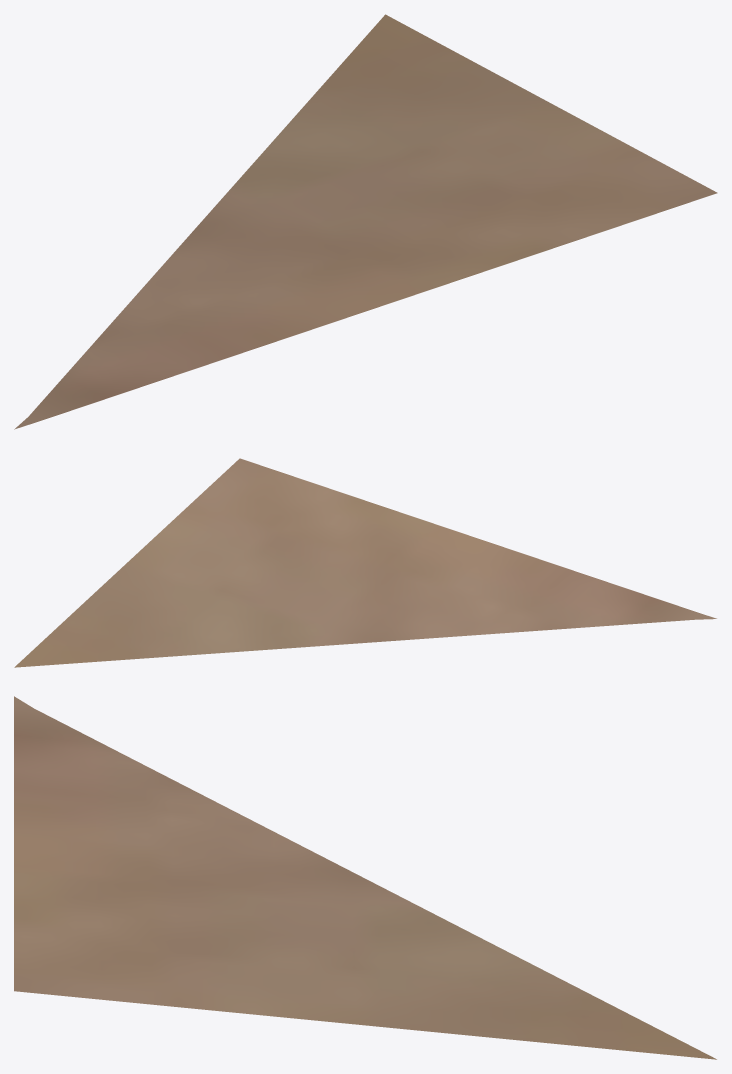
3 views of the same model, one above another, from view 1: azimuth 30°, elevation 25°; view 2: azimuth 150°, elevation 25°; view 3: azimuth 270°, elevation 25° (orthographic). The views are drawn at different scales.
Size of the model in its own units: 0.2717 by 0.0239 by 0.2223.
1 material, 1 textured.
